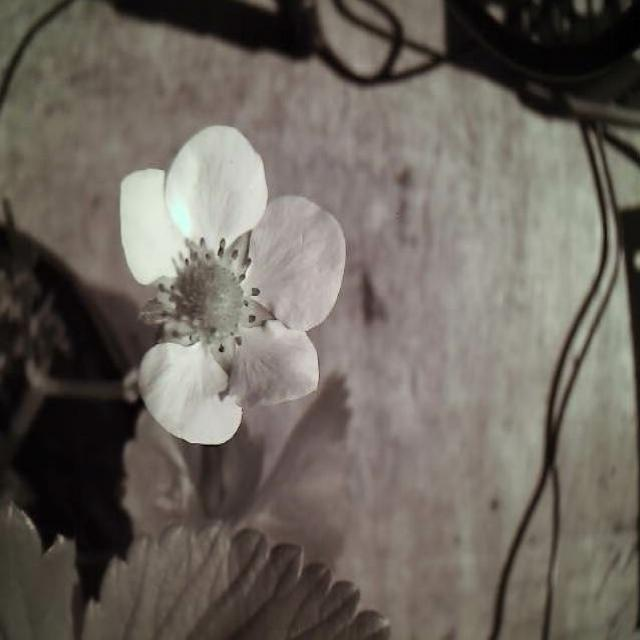flower: (114, 116, 351, 448)
